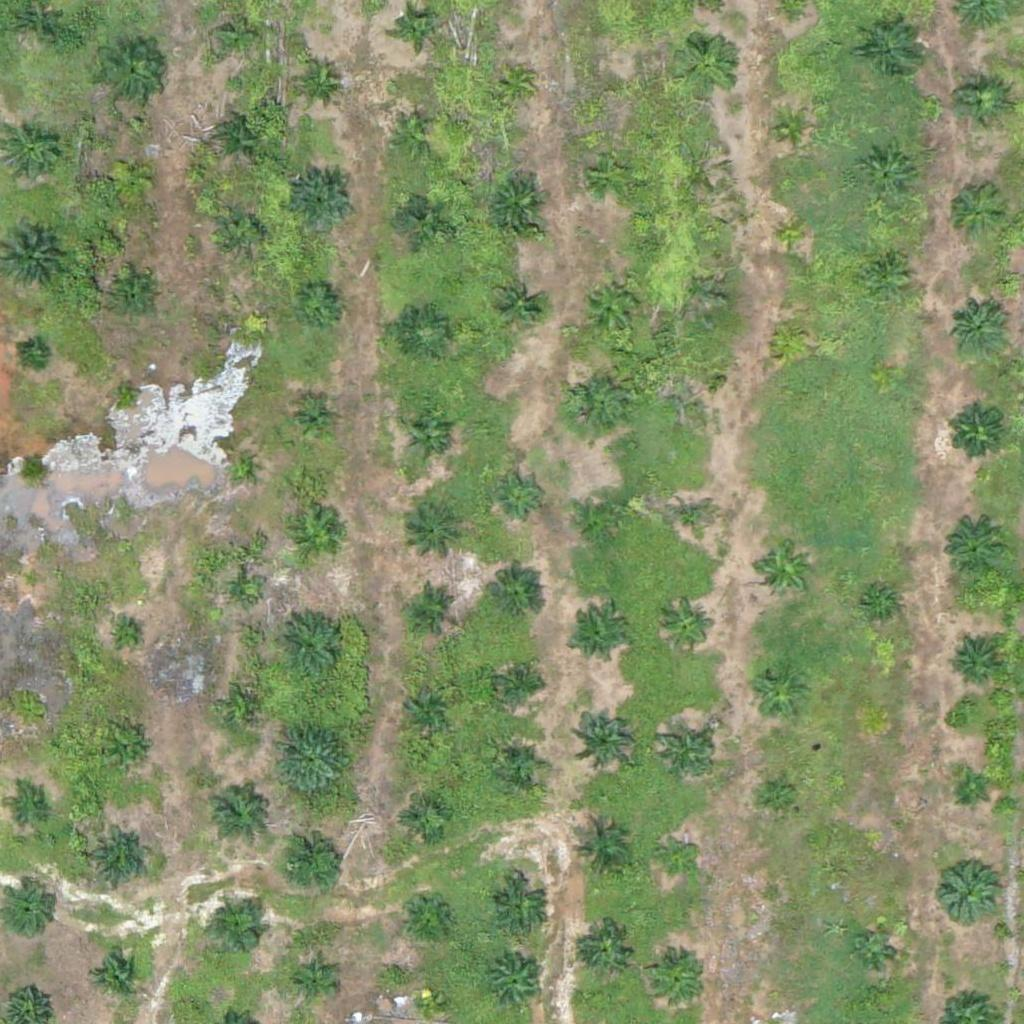Kelapa_Sawit: (271, 607, 346, 683), (275, 825, 350, 901), (275, 721, 350, 797), (935, 858, 998, 921), (204, 780, 267, 843), (746, 662, 809, 725), (489, 876, 552, 939), (944, 180, 1007, 243), (947, 297, 1010, 360), (89, 826, 152, 889), (405, 500, 468, 563), (563, 371, 626, 434), (862, 16, 925, 79), (753, 539, 816, 602), (292, 169, 355, 232), (858, 146, 921, 209), (207, 4, 270, 67), (484, 569, 547, 632), (568, 607, 630, 670), (569, 820, 631, 883), (656, 721, 718, 784), (572, 704, 634, 767), (941, 517, 1003, 580), (945, 400, 1007, 463), (100, 42, 162, 105), (487, 173, 549, 236), (581, 274, 643, 337), (677, 34, 739, 97), (486, 955, 548, 1017), (662, 600, 712, 651), (947, 638, 997, 689), (3, 885, 53, 936), (91, 950, 141, 1001), (399, 308, 449, 359), (397, 190, 447, 241), (217, 112, 267, 163), (293, 55, 343, 106), (218, 206, 268, 257), (106, 152, 156, 203), (294, 279, 344, 330), (492, 279, 542, 330), (666, 494, 716, 545), (578, 492, 628, 543), (496, 469, 546, 520), (404, 411, 454, 462), (215, 905, 265, 955), (401, 888, 451, 938), (400, 792, 450, 842), (582, 923, 632, 973), (652, 955, 702, 1005), (956, 79, 1006, 129), (293, 513, 343, 563), (861, 247, 911, 297), (587, 150, 637, 200), (390, 110, 440, 160), (112, 273, 162, 323), (494, 658, 544, 708), (496, 742, 546, 792), (402, 678, 452, 728), (407, 583, 457, 633), (289, 396, 339, 446), (293, 961, 331, 999), (6, 791, 44, 829), (772, 110, 810, 148), (774, 217, 812, 255), (770, 317, 808, 355), (496, 64, 534, 102), (399, 9, 437, 47), (861, 588, 899, 626), (657, 840, 695, 878), (111, 734, 148, 772), (952, 771, 989, 809), (594, 71, 631, 109), (677, 369, 714, 407), (760, 777, 797, 814), (855, 927, 892, 964), (21, 342, 46, 368), (233, 698, 258, 724), (226, 453, 251, 478), (231, 581, 256, 606), (114, 624, 139, 649), (114, 380, 139, 405), (414, 989, 439, 1014), (20, 569, 45, 594)
